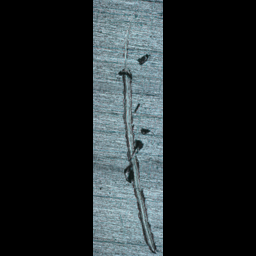d: (116, 6, 159, 254)
